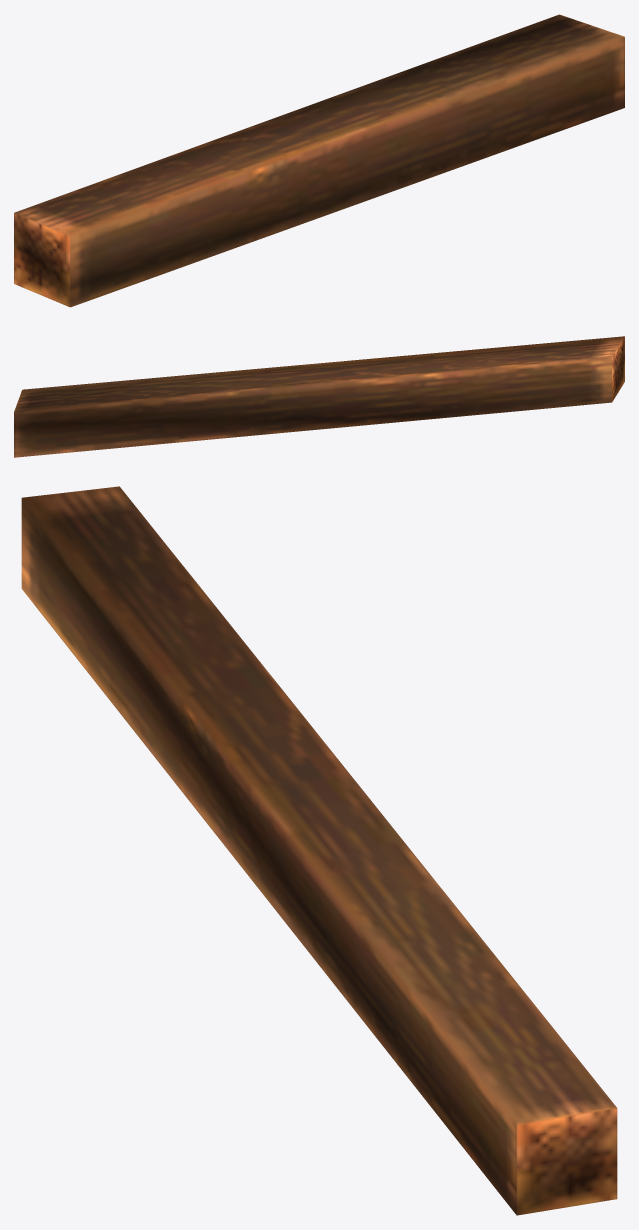
File: SWORDLIGHT20_JAILBRACE51.fbx
3 renders of one model, top to bottom at view 1: azimuth 30°, elevation 25°; view 2: azimuth 150°, elevation 25°; view 3: azimuth 270°, elevation 25°, orthographic. The views are drawn at different scales.
Visible parts, largest first — view 1: SWORDLIGHT20_JAILBRACE51; view 2: SWORDLIGHT20_JAILBRACE51; view 3: SWORDLIGHT20_JAILBRACE51.
Boxes of the visible parts, x1=… form: SWORDLIGHT20_JAILBRACE51: x1=14, y1=14, x2=624, y2=307; SWORDLIGHT20_JAILBRACE51: x1=14, y1=336, x2=624, y2=457; SWORDLIGHT20_JAILBRACE51: x1=21, y1=486, x2=617, y2=1215.
Size of the model in its own units: 45075 by 10994 by 23700.
1 material, 1 textured.
